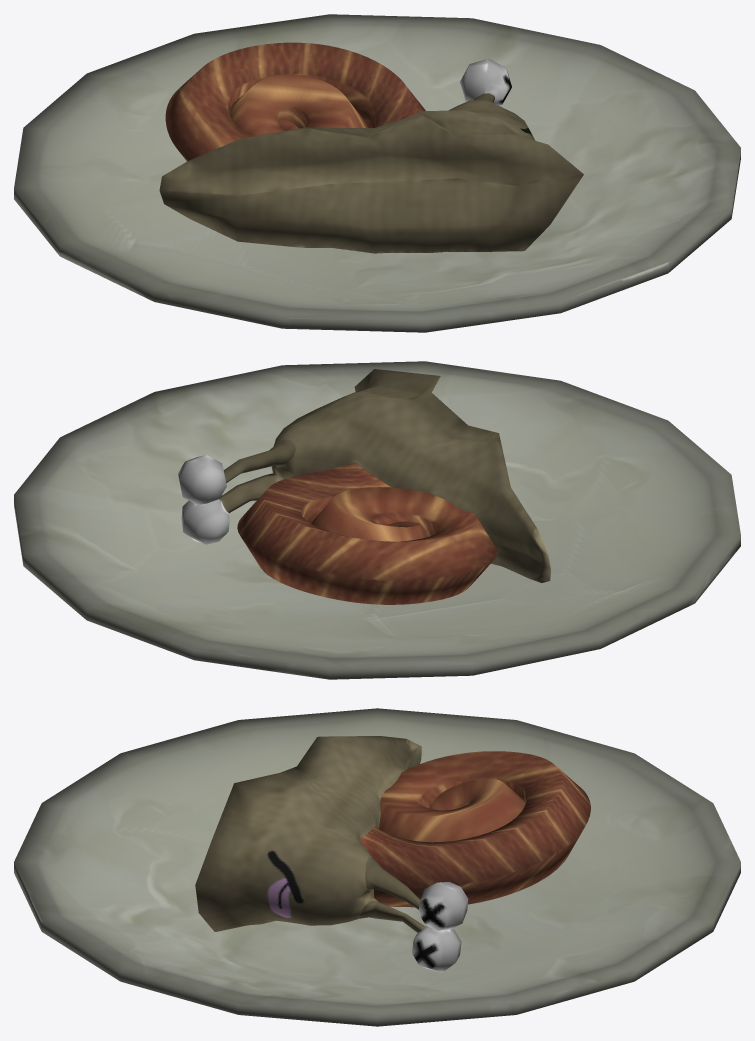
Rendered from escargot.fbx.
The picture shows the model from 3 angles, top to bottom: view 1: azimuth 30°, elevation 25°; view 2: azimuth 150°, elevation 25°; view 3: azimuth 270°, elevation 25°; orthographic projection.
Parts seen in each view (by area): view 1: Sphere; view 2: Sphere; view 3: Sphere.
Part boxes in pixels (x1,y1,x2,y2): Sphere: [14, 14, 740, 332]; Sphere: [14, 361, 740, 679]; Sphere: [14, 708, 740, 1026].
Size of the model in its own units: 421 by 104 by 421.
1 material, 1 textured.
